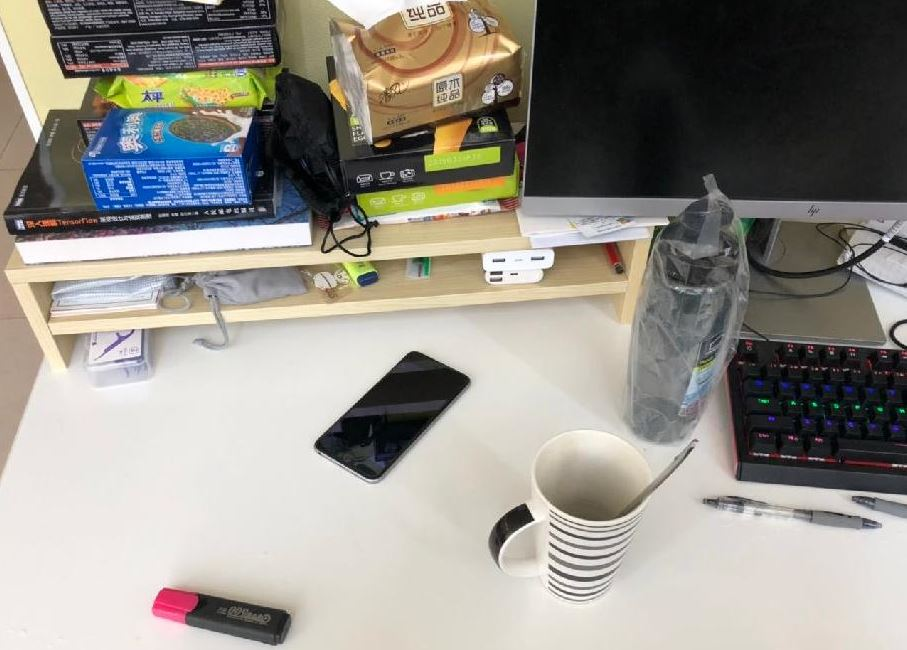mobil: (308, 346, 475, 485)
